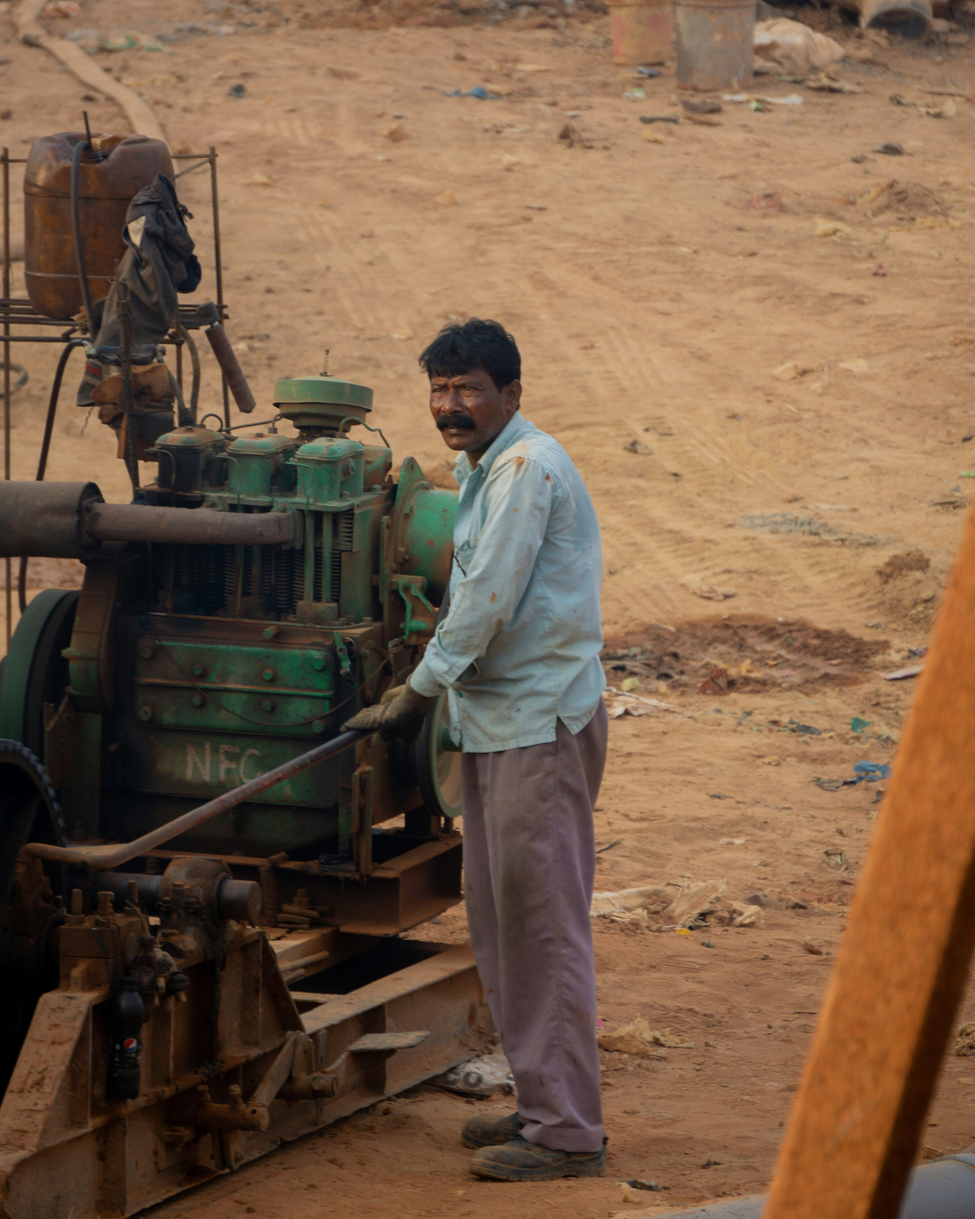No_Helmet: (420, 316, 520, 454)
